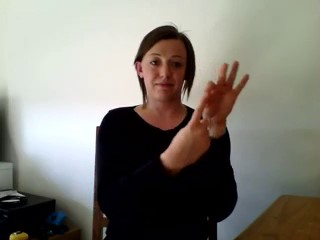Q: (164, 57, 253, 165)
